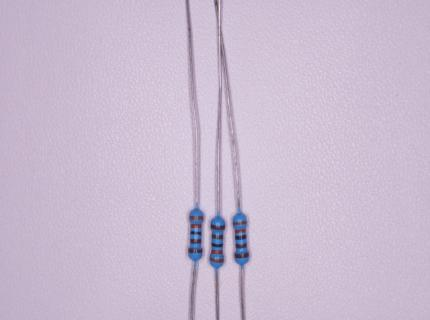Black band: (235, 234, 247, 239), (190, 231, 201, 235), (212, 243, 223, 247)
Brown band: (235, 253, 249, 258), (211, 224, 225, 229), (188, 249, 202, 253), (236, 243, 247, 248), (212, 234, 223, 239), (190, 239, 201, 244)
Orange band: (210, 257, 224, 263), (188, 216, 203, 220), (233, 221, 247, 225), (211, 249, 222, 254), (191, 224, 201, 228), (235, 229, 245, 233)
